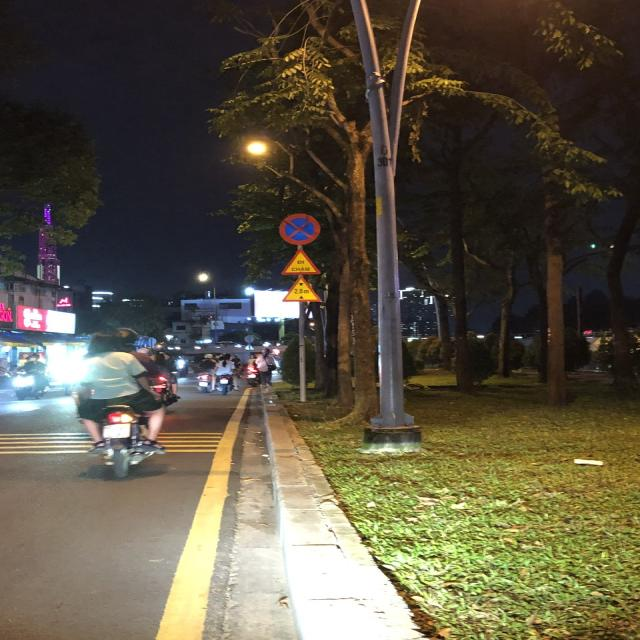Bien bao cam dung xe va do xe: (274, 212, 324, 244)
Bien bao chieu cao tinh khong thuc te: (278, 274, 327, 302)
Bien bao di cham: (277, 248, 325, 278)
